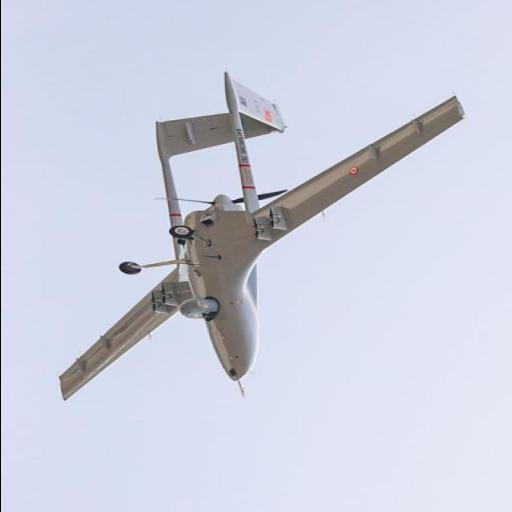uav: (48, 70, 472, 408)
